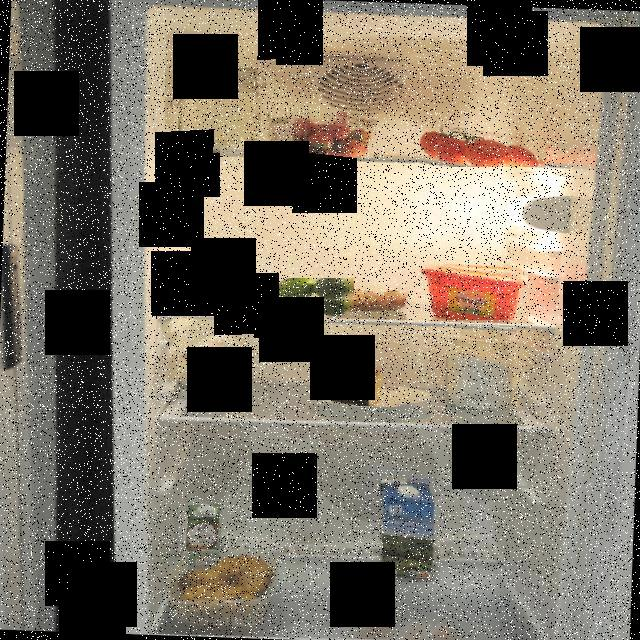butter: (416, 262, 528, 320)
cheese: (322, 361, 402, 407)
flour: (165, 56, 278, 156), (174, 326, 254, 408)
heavy_cream: (186, 502, 222, 568)
lime: (175, 278, 354, 316)
milk: (369, 474, 440, 582)
potato: (171, 549, 281, 626)
shrimp: (344, 286, 412, 316)
strawberries: (270, 108, 377, 158)
sugar: (443, 324, 516, 410)
tomato: (412, 124, 546, 168)
